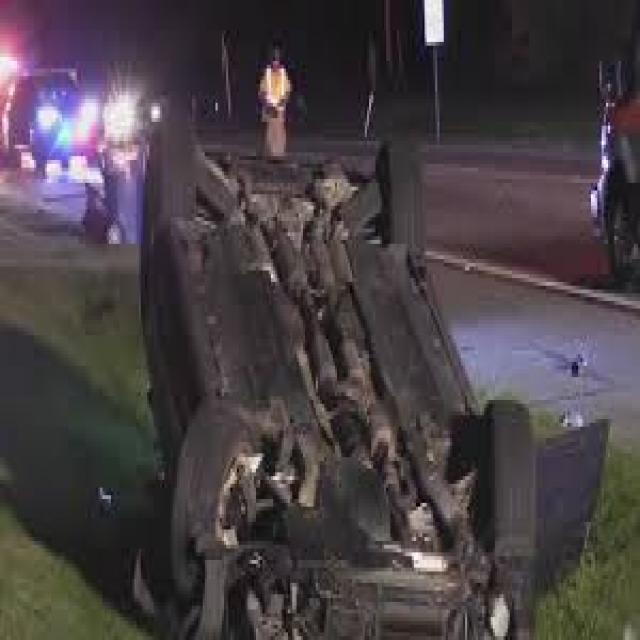accident: (120, 115, 552, 626)
